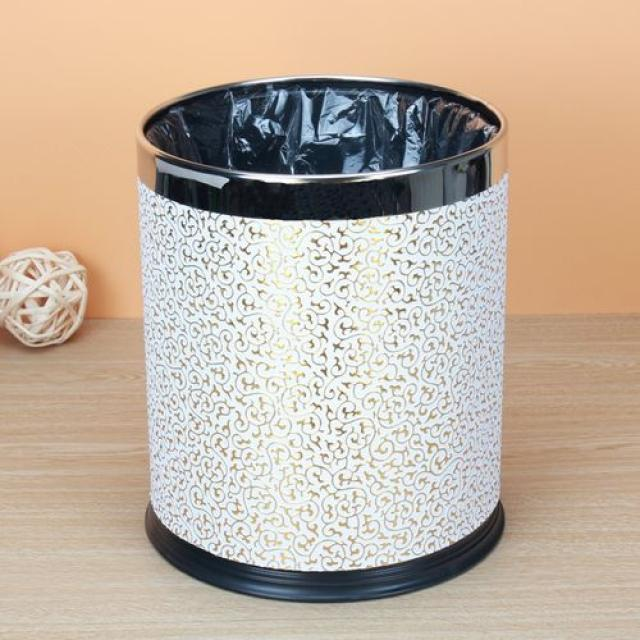dustbin: (128, 68, 522, 610)
